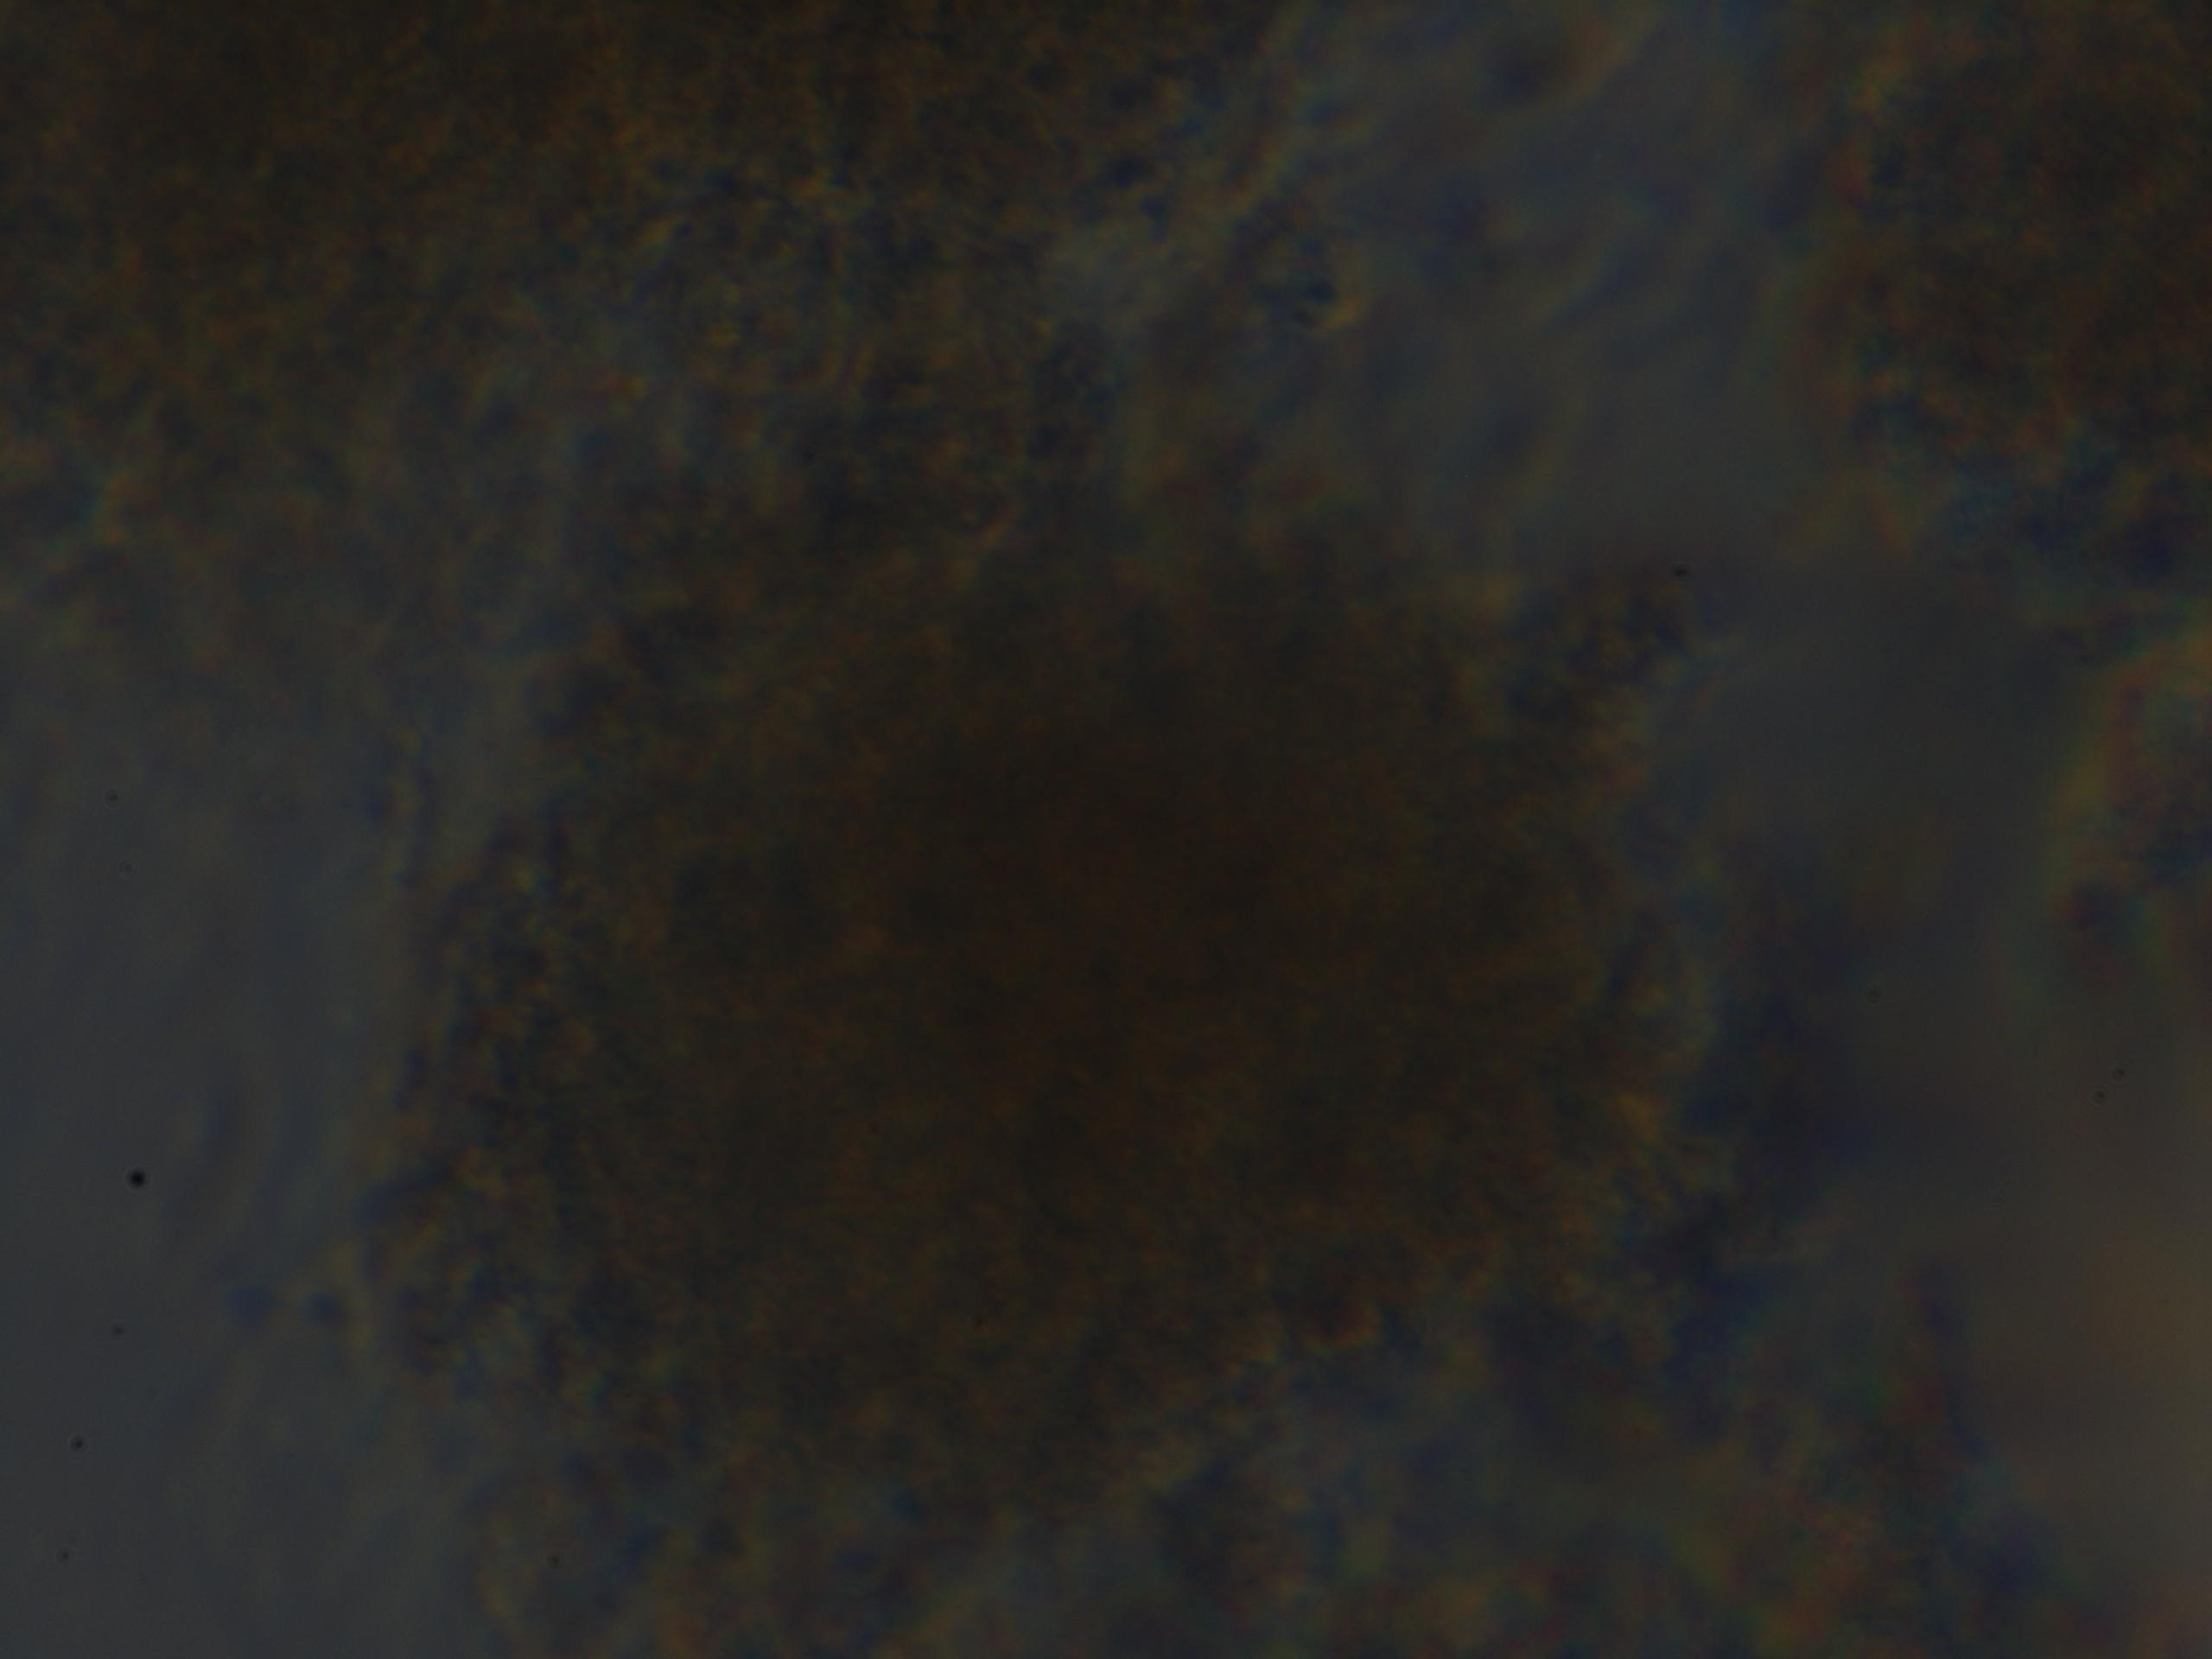spherical_floc: (385, 392, 1710, 1535)
